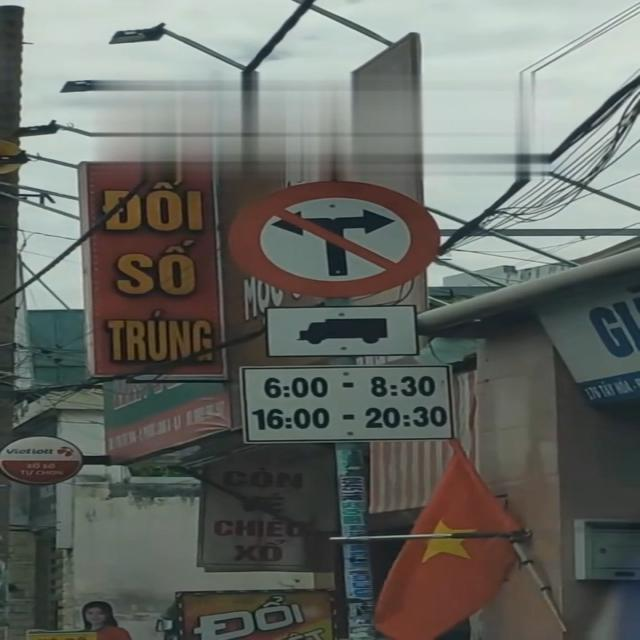137-cam-re-trai-va-re-phai: (228, 176, 440, 294)
